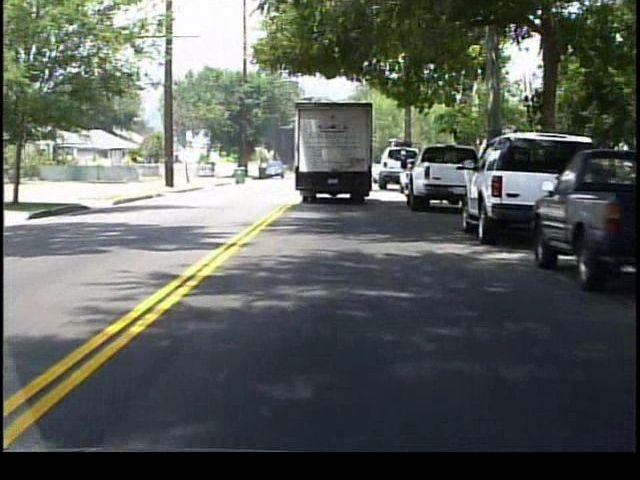person: (211, 161, 220, 182)
